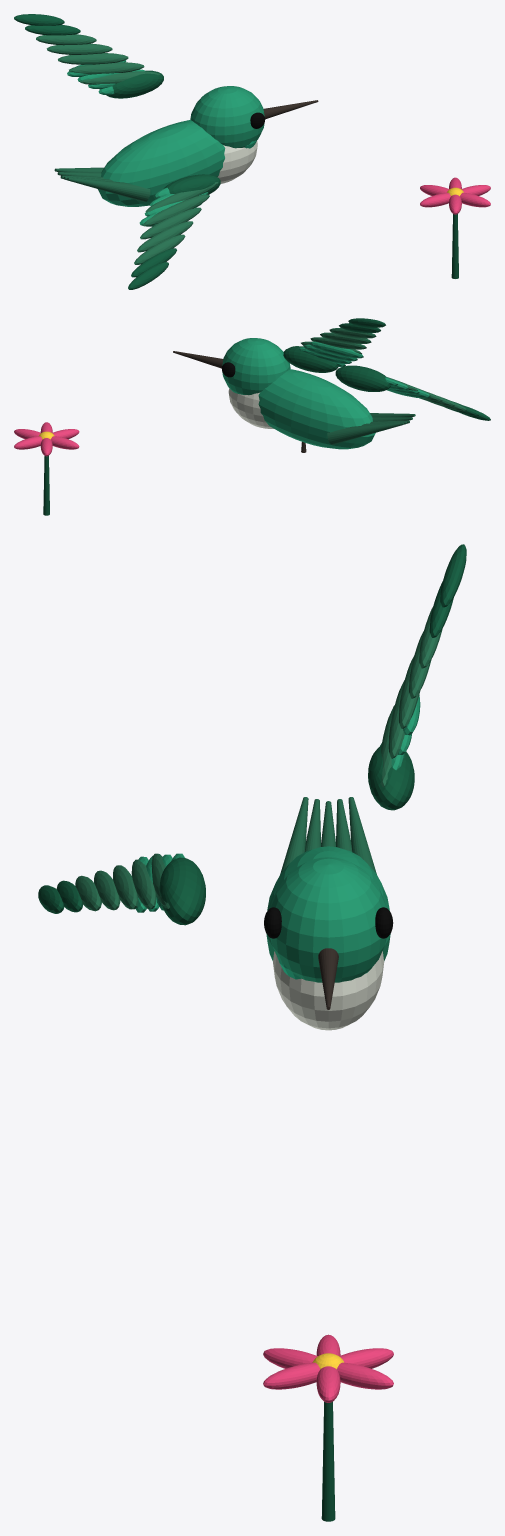
The model's file is colibri.glb.
The picture shows the model from 3 angles, top to bottom: view 1: azimuth 30°, elevation 25°; view 2: azimuth 150°, elevation 25°; view 3: azimuth 270°, elevation 25°; orthographic projection. The views are drawn at different scales.
Parts seen in each view (by area): view 1: Cuerpo, Cabeza, Pecho_claro, Hombro_ala, Pluma_cola_00, Hombro_ala.001, Pluma_ala_D_01, Pluma_ala_D_02, Pluma_ala_I_01, Pluma_ala_I_02, Pluma_ala_D_03, Pluma_ala_I_03 (+12 smaller); view 2: Cuerpo, Cabeza, Hombro_ala.001, Pecho_claro, Hombro_ala, Pluma_cola_04, Secundaria_D_03, Tallo, Pluma_ala_D_02, Pico_largo, Pluma_ala_D_03, Pluma_ala_D_04 (+5 smaller); view 3: Cabeza, Pecho_claro, Hombro_ala.001, Hombro_ala, Cuerpo, Tallo, Petalo.005, Petalo.001.
Part boxes in pixels (x1=…): Cuerpo: x1=98, y1=120, x2=225, y2=206; Cabeza: x1=190, y1=86, x2=264, y2=148; Pecho_claro: x1=217, y1=141, x2=257, y2=183; Hombro_ala: x1=106, y1=70, x2=163, y2=98; Pluma_cola_00: x1=67, y1=177, x2=150, y2=202; Hombro_ala.001: x1=163, y1=174, x2=220, y2=194; Pluma_ala_D_01: x1=69, y1=62, x2=144, y2=74; Pluma_ala_D_02: x1=58, y1=53, x2=128, y2=64; Pluma_ala_I_01: x1=143, y1=194, x2=209, y2=226; Pluma_ala_I_02: x1=140, y1=207, x2=201, y2=239; Pluma_ala_D_03: x1=46, y1=43, x2=112, y2=54; Pluma_ala_I_03: x1=137, y1=221, x2=193, y2=252; Cuerpo: x1=258, y1=369, x2=375, y2=449; Cabeza: x1=222, y1=338, x2=290, y2=395; Hombro_ala.001: x1=335, y1=365, x2=390, y2=391; Pecho_claro: x1=228, y1=388, x2=273, y2=428; Hombro_ala: x1=283, y1=346, x2=338, y2=372; Pluma_cola_04: x1=327, y1=422, x2=403, y2=444; Secundaria_D_03: x1=309, y1=341, x2=363, y2=358; Tallo: x1=43, y1=456, x2=49, y2=515; Pluma_ala_D_02: x1=310, y1=337, x2=366, y2=349; Pico_largo: x1=173, y1=351, x2=223, y2=368; Pluma_ala_D_03: x1=320, y1=332, x2=371, y2=343; Pluma_ala_D_04: x1=329, y1=328, x2=376, y2=338; Cabeza: x1=270, y1=857, x2=386, y2=982; Pecho_claro: x1=273, y1=951, x2=384, y2=1030; Hombro_ala.001: x1=159, y1=857, x2=205, y2=925; Hombro_ala: x1=368, y1=745, x2=414, y2=810; Cuerpo: x1=266, y1=846, x2=390, y2=961; Tallo: x1=321, y1=1401, x2=335, y2=1521; Petalo.005: x1=263, y1=1362, x2=319, y2=1389; Petalo.001: x1=337, y1=1362, x2=393, y2=1389.
Bounding box in the file's own units: 6.22 × 4.5 × 2.85.
